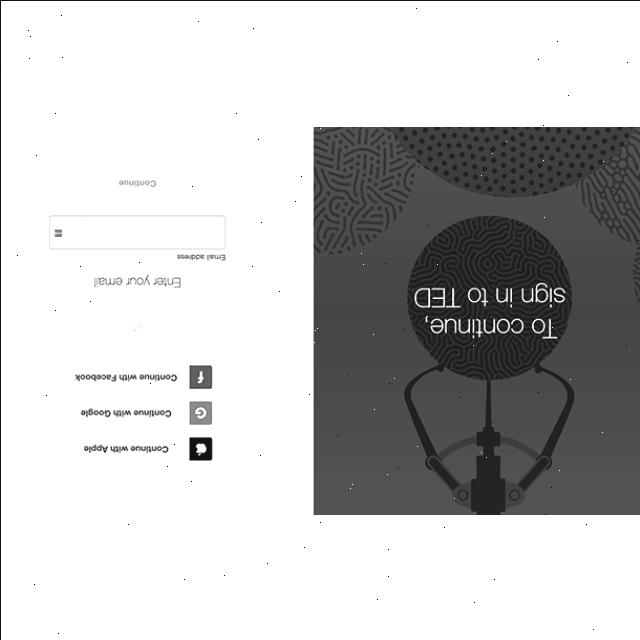QLabel: (92, 274, 185, 288), (80, 406, 172, 418), (82, 442, 170, 453), (73, 372, 179, 381), (174, 252, 226, 260), (117, 177, 157, 187), (130, 323, 144, 331)
VBtn: (60, 436, 212, 462), (61, 399, 211, 425), (62, 363, 212, 389), (102, 168, 172, 196)
VCard: (0, 126, 640, 514)
VDivider: (150, 324, 296, 331), (0, 324, 124, 330)
VIcon: (194, 442, 206, 454), (193, 406, 205, 418), (195, 369, 205, 383)
VImg: (314, 126, 640, 514)
VTextField: (48, 212, 226, 250)
